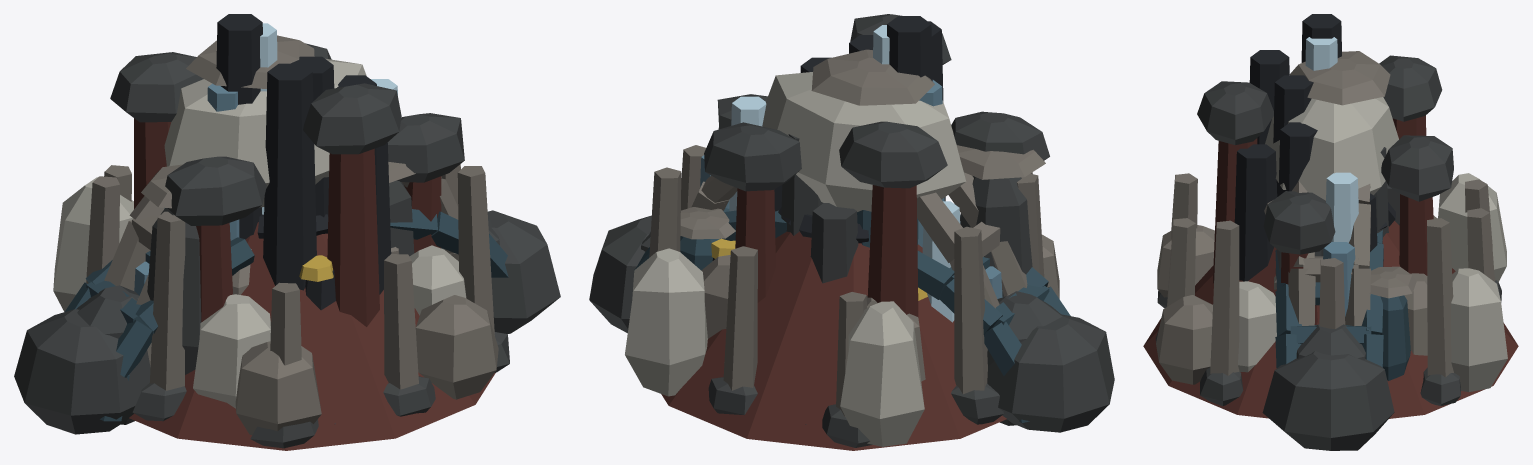
File: landmark-kit.glb
3 views of the same model, side by side, from view 1: azimuth 30°, elevation 25°; view 2: azimuth 150°, elevation 25°; view 3: azimuth 270°, elevation 25° (orthographic). The views are drawn at different scales.
Parts seen in each view (by area): view 1: cone-flank, wave-foot-0, basalt-column-7, stem-1, balanced-cap, fjord-bank-+1-0, fjord-bank--1-0, wave-foot-1, cap-0, cap-1, fjord-bank--1-1, monolith-5 (+34 smaller); view 2: cone-flank, balanced-cap, wave-foot-0, fjord-bank-+1-5, fjord-bank--1-5, stem-3, cap-3, cap-4, monolith-4, stack-cap-1, monolith-2, wave-foot-1 (+34 smaller); view 3: wave-foot-1, balanced-cap, cone-flank, fjord-bank-+1-5, basalt-column-10, fjord-bank-+1-0, monolith-8, monolith-1, cap-4, cap-1, cap-2, stack-cap-1 (+36 smaller).
Boxes of the visible parts, x1,y1,x2,y2 form: cone-flank: (129, 222, 495, 450); wave-foot-0: (14, 309, 150, 434); basalt-column-7: (263, 63, 316, 290); stem-1: (327, 148, 379, 326); balanced-cap: (164, 58, 366, 207); fjord-bank-+1-0: (415, 295, 498, 399); fjord-bank--1-0: (235, 341, 321, 434); wave-foot-1: (487, 210, 560, 333); cap-0: (165, 156, 266, 225); cap-1: (303, 83, 401, 154); fjord-bank--1-1: (193, 294, 270, 408); monolith-5: (149, 211, 185, 390); cone-flank: (661, 231, 1006, 450); balanced-cap: (762, 72, 966, 211); wave-foot-0: (987, 314, 1114, 432); fjord-bank-+1-5: (625, 248, 707, 396); fjord-bank--1-5: (840, 301, 924, 446); stem-3: (867, 185, 918, 317); cap-3: (839, 121, 947, 188); cap-4: (704, 122, 801, 191); monolith-4: (954, 226, 987, 394); stack-cap-1: (811, 49, 934, 105); monolith-2: (723, 246, 757, 390); wave-foot-1: (589, 215, 651, 332); wave-foot-1: (1262, 351, 1394, 450); balanced-cap: (1265, 97, 1398, 200); cone-flank: (1143, 221, 1518, 418); fjord-bank-+1-5: (1451, 268, 1507, 391); basalt-column-10: (1234, 144, 1277, 281); fjord-bank-+1-0: (1156, 295, 1212, 384); monolith-8: (1210, 220, 1239, 375); monolith-1: (1427, 218, 1453, 377); cap-4: (1381, 135, 1453, 201); cap-1: (1197, 81, 1273, 145); cap-2: (1263, 191, 1335, 254); stack-cap-1: (1289, 51, 1390, 105).
Bounding box in the file's own units: 6.84 × 4.61 × 4.9.
